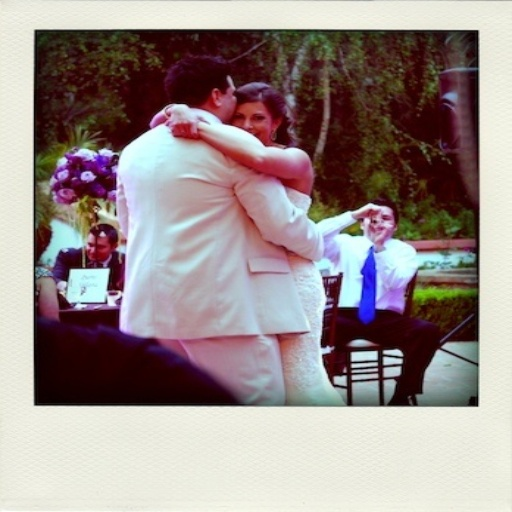hand: (166, 104, 210, 142), (367, 219, 394, 245), (357, 200, 381, 217)
